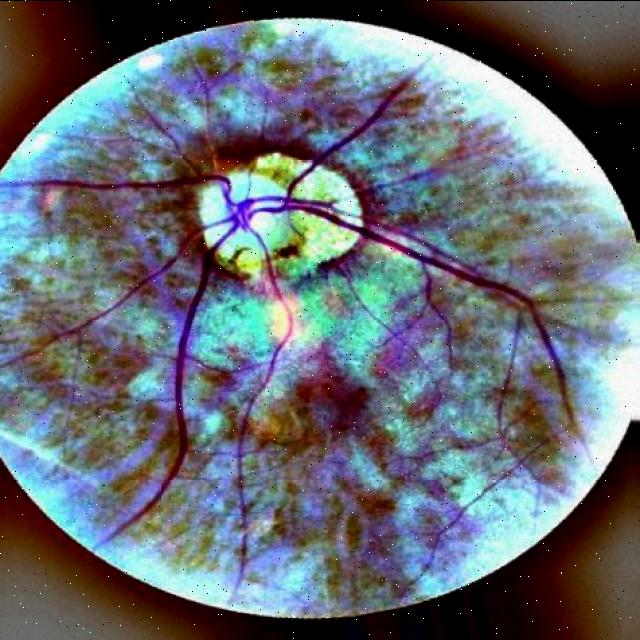Macula: (293, 368, 370, 435)
Nerves: (104, 225, 240, 541), (279, 204, 477, 283), (0, 171, 234, 215)
Optic Disk: (226, 152, 362, 223), (250, 211, 358, 276), (218, 229, 262, 281), (199, 186, 229, 246)
